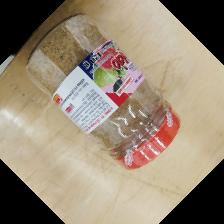Hao_hao: (26, 13, 183, 171)
